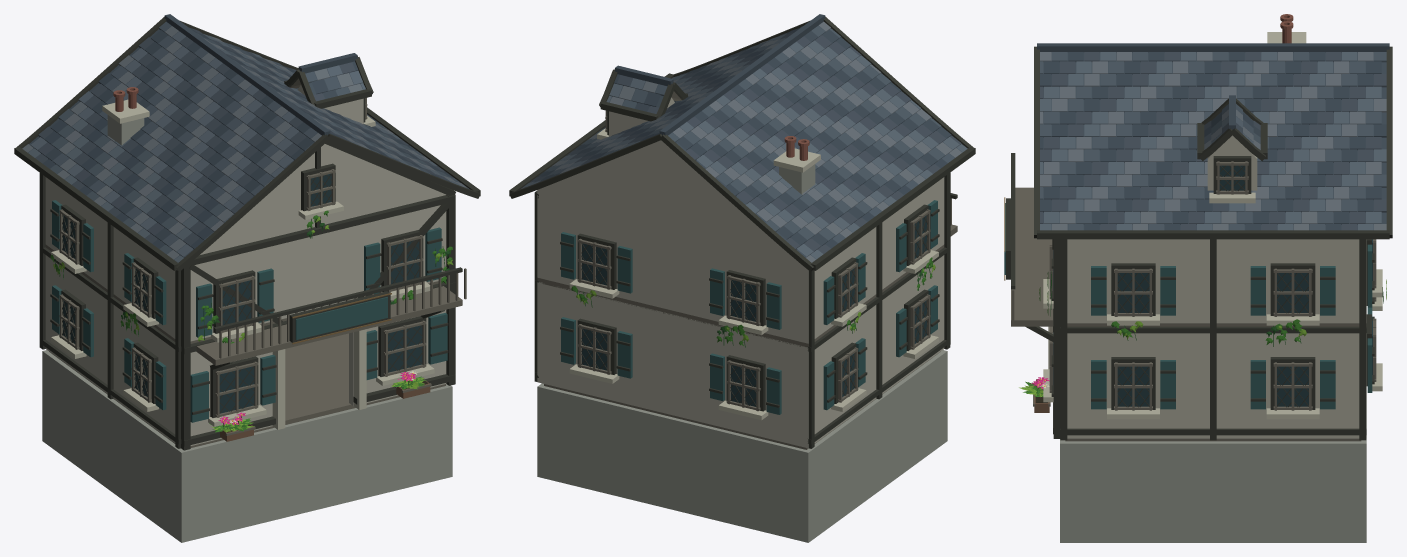
Rendered from village_meadowinn.glb.
The picture shows the model from 3 angles, left to right: view 1: azimuth 30°, elevation 25°; view 2: azimuth 150°, elevation 25°; view 3: azimuth 270°, elevation 25°; orthographic projection. The views are drawn at different scales.
Parts seen in each view (by area): view 1: village_meadowinn; view 2: village_meadowinn; view 3: village_meadowinn.
Boxes of the visible parts, left/top/right/bottom form: village_meadowinn: left=14, top=14, right=480, bottom=542; village_meadowinn: left=509, top=14, right=975, bottom=542; village_meadowinn: left=1004, top=14, right=1392, bottom=542.
Size of the model in its own units: 10.18 by 12.24 by 10.13.
